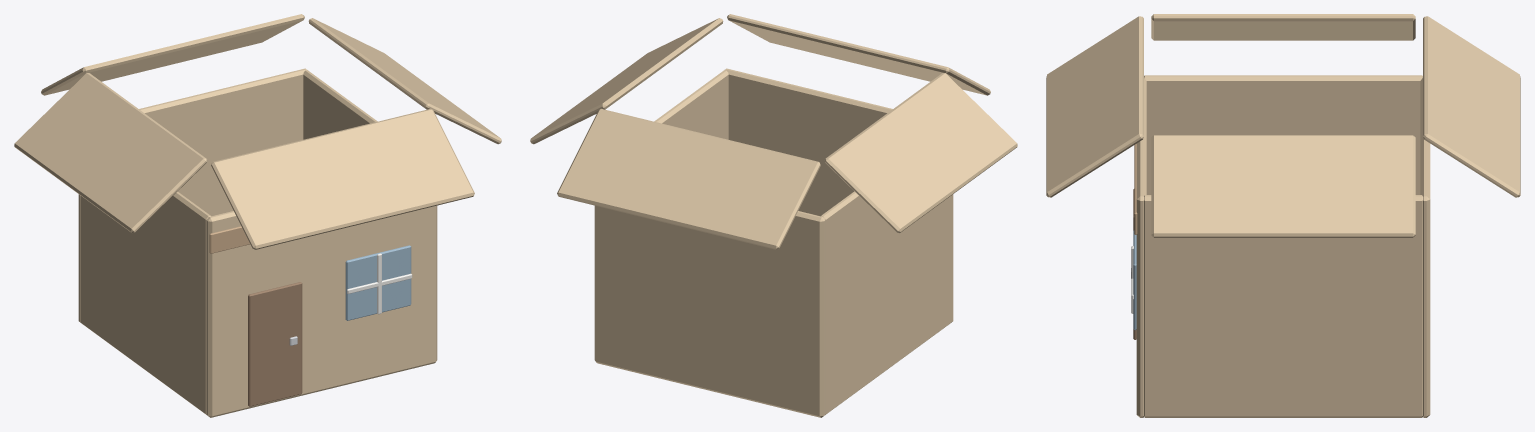
File: ApartmentBox.glb
3 views of the same model, side by side, from view 1: azimuth 30°, elevation 25°; view 2: azimuth 150°, elevation 25°; view 3: azimuth 270°, elevation 25° (orthographic). The views are drawn at different scales.
Parts seen in each view (by area): view 1: ApartmentBox_Body; view 2: ApartmentBox_Body; view 3: ApartmentBox_Body.
Boxes of the visible parts, x1=… form: ApartmentBox_Body: x1=14, y1=14, x2=501, y2=417; ApartmentBox_Body: x1=530, y1=14, x2=1017, y2=417; ApartmentBox_Body: x1=1046, y1=14, x2=1520, y2=417.
Size of the model in its own units: 0.9692 by 0.637 by 0.9692.
